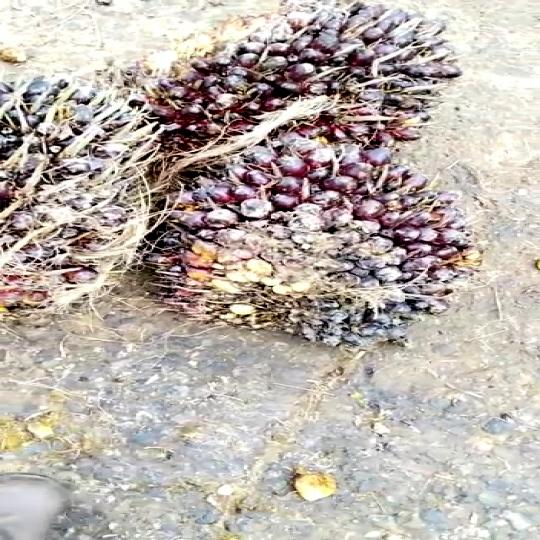kurang masak: (131, 144, 468, 374), (117, 0, 495, 179), (0, 66, 179, 330)
